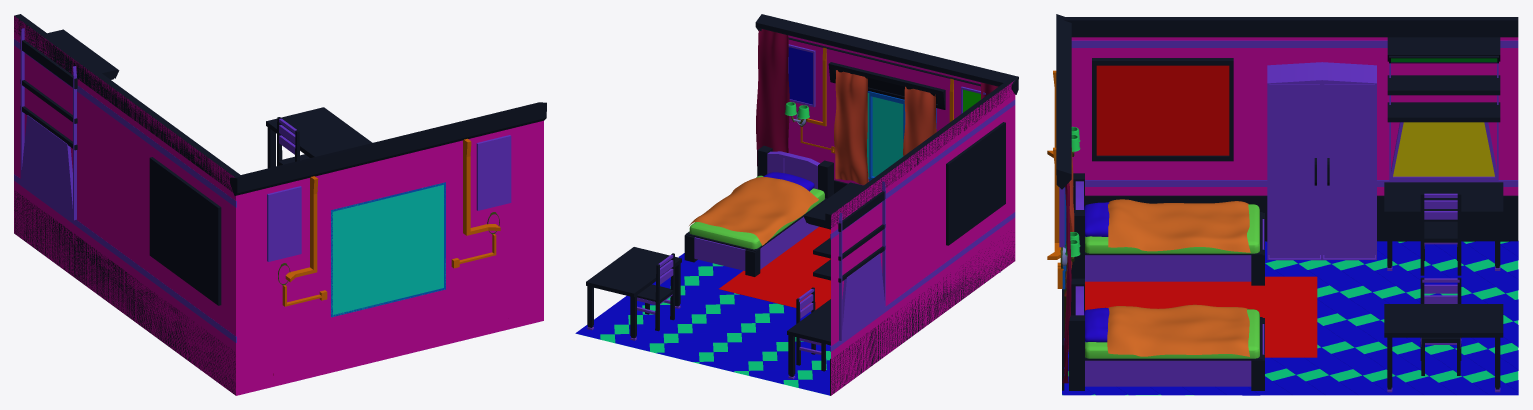
File: Hotel room.fbx
3 renders of one model, left to right at view 1: azimuth 30°, elevation 25°; view 2: azimuth 150°, elevation 25°; view 3: azimuth 270°, elevation 25°, orthographic. The views are drawn at different scales.
Visible parts, largest first — view 1: Cube.004, Cube.001, Cube.025, Cube.032, Cube.023, Cube.008, Cube.024, Cube.027, Cube.043, Cube.041, Cube.026, Cube.045 (+4 smaller); view 2: Cube.001, Cube.050, Cube.004, Retopo_Cube.021, Cube.032, Retopo_Plane, Cube.008, Cube.018, Retopo_Cube.019, Cube.015, Cube.041, Cube.023 (+22 smaller); view 3: Cube.050, Cube.001, Cube.022, Retopo_Plane, Cube.034, Cube.024, Cube.018, Cube.012, Cube.041, Cube.015, Cube.044, Cube.023 (+23 smaller).
Boxes of the visible parts, x1,y1,x2,y2 form: Cube.004: (236,120,543,395); Cube.001: (14,16,235,395); Cube.025: (331,183,445,317); Cube.032: (149,157,221,305); Cube.023: (14,191,235,395); Cube.008: (230,102,546,195); Cube.024: (14,14,241,192); Cube.027: (267,135,511,261); Cube.043: (20,28,76,220); Cube.041: (266,107,372,157); Cube.026: (285,138,500,282); Cube.045: (20,29,119,89); Cube.001: (831,80,1015,395); Cube.050: (575,253,1000,395); Cube.004: (788,35,981,185); Retopo_Cube.021: (834,70,936,184); Cube.032: (946,122,1005,245); Retopo_Plane: (689,177,818,245); Cube.008: (755,14,1018,94); Cube.018: (719,226,830,311); Retopo_Cube.019: (756,29,998,165); Cube.015: (587,263,830,394); Cube.041: (586,247,830,345); Cube.023: (830,241,1014,395); Cube.050: (1062,241,1518,395); Cube.001: (1071,37,1518,195); Cube.022: (1269,84,1374,258); Retopo_Plane: (1107,199,1250,356); Cube.034: (1096,65,1229,155); Cube.024: (1063,17,1518,37); Cube.018: (1085,276,1317,357); Cube.012: (1085,255,1251,386); Cube.041: (1384,182,1503,337); Cube.015: (1062,241,1518,395); Cube.044: (1393,122,1494,176); Cube.023: (1085,195,1518,241).
Size of the model in its own units: 452 by 305 by 574.
